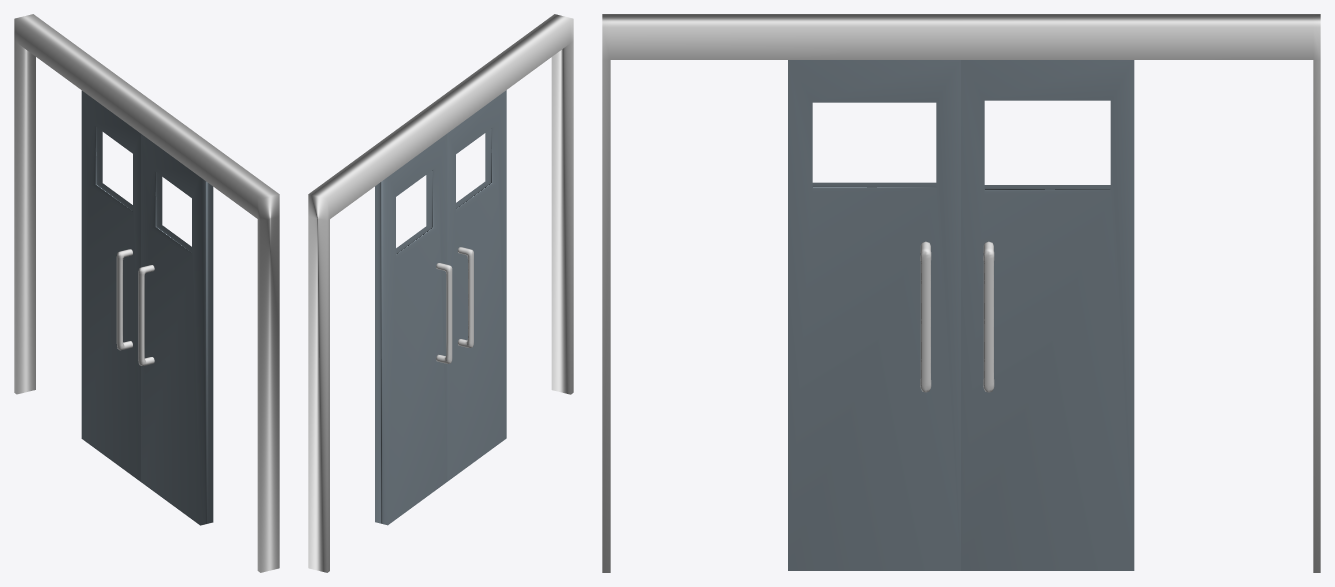
The model's file is slideDoor.fbx.
3 views of the same model, side by side, from view 1: azimuth 30°, elevation 25°; view 2: azimuth 150°, elevation 25°; view 3: azimuth 270°, elevation 25° (orthographic). The views are drawn at different scales.
Visible parts, largest first — view 1: Cube, LeftDoor, RightDoor; view 2: Cube, RightDoor, LeftDoor; view 3: LeftDoor, RightDoor, Cube.
Boxes of the visible parts, x1=… form: Cube: x1=14, y1=14, x2=279, y2=572; LeftDoor: x1=138, y1=134, x2=213, y2=525; RightDoor: x1=81, y1=90, x2=140, y2=481; Cube: x1=308, y1=14, x2=573, y2=572; RightDoor: x1=375, y1=134, x2=452, y2=525; LeftDoor: x1=447, y1=90, x2=506, y2=481; LeftDoor: x1=788, y1=60, x2=960, y2=570; RightDoor: x1=961, y1=60, x2=1134, y2=570; Cube: x1=602, y1=14, x2=1320, y2=572.
Bounding box in the file's own units: 26.4 × 232 × 277.
